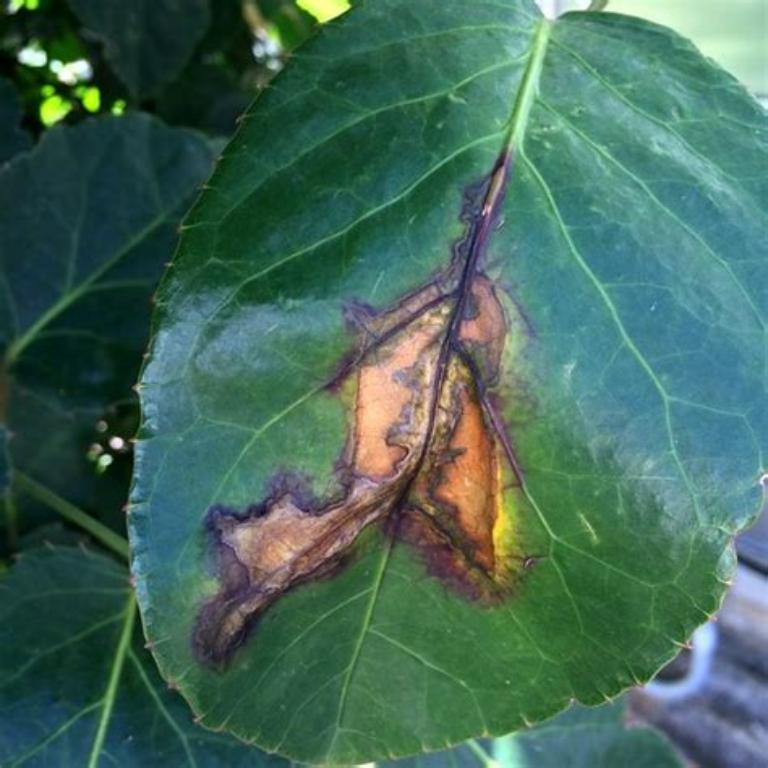blight: (253, 113, 603, 650)
